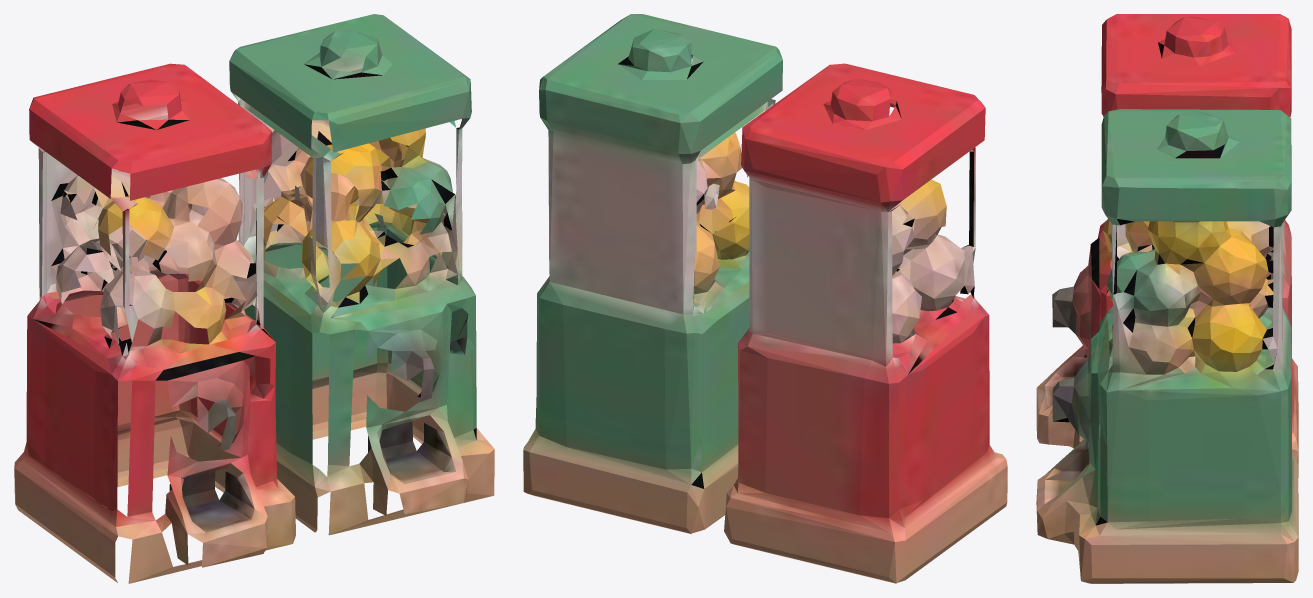
3 views of the same model, side by side, from view 1: azimuth 30°, elevation 25°; view 2: azimuth 150°, elevation 25°; view 3: azimuth 270°, elevation 25° (orthographic). The views are drawn at different scales.
Parts seen in each view (by area): view 1: loA; view 2: loA; view 3: loA.
Boxes of the visible parts, x1,y1,x2,y2 form: loA: [14, 14, 494, 583]; loA: [523, 14, 1007, 583]; loA: [1036, 14, 1298, 583].
Bounding box in the file's own units: 2.09 × 2.3 × 1.29.
Materials: 2 (2 with a texture image).
